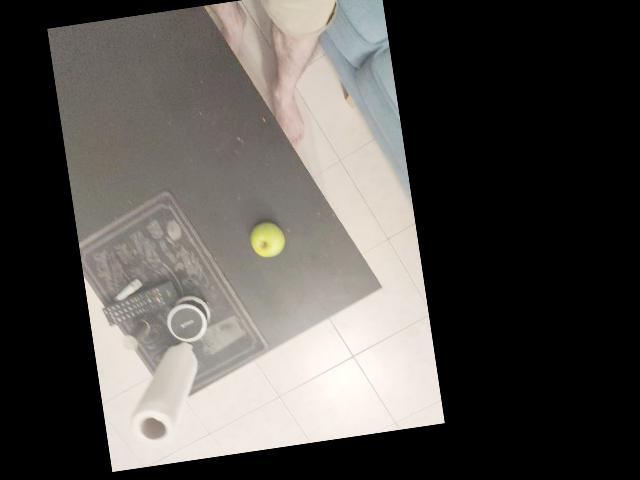apple: (273, 267, 326, 316)
